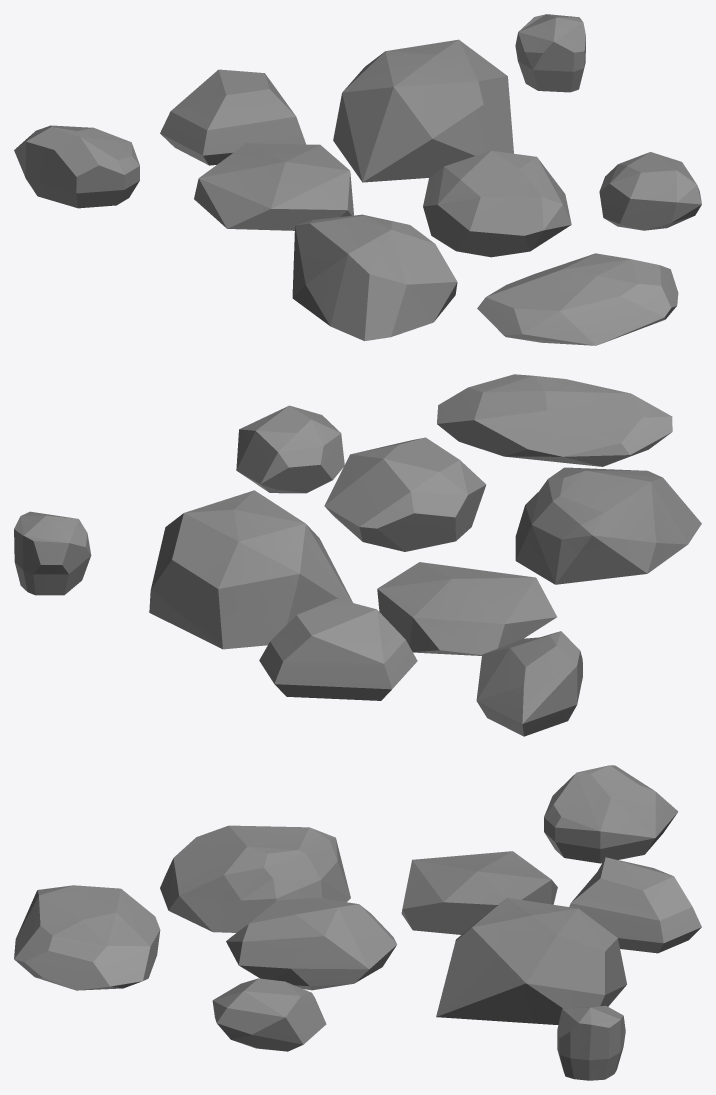
The model's file is Pebbles.obj.
3 views of the same model, one above another, from view 1: azimuth 30°, elevation 25°; view 2: azimuth 150°, elevation 25°; view 3: azimuth 270°, elevation 25° (orthographic). The views are drawn at different scales.
Parts seen in each view (by area): view 1: PP_Cemetery_Pebbles_09; view 2: PP_Cemetery_Pebbles_09; view 3: PP_Cemetery_Pebbles_09.
Boxes of the visible parts, x1=… form: PP_Cemetery_Pebbles_09: x1=14, y1=14, x2=701, y2=345; PP_Cemetery_Pebbles_09: x1=14, y1=374, x2=701, y2=736; PP_Cemetery_Pebbles_09: x1=14, y1=765, x2=701, y2=1080.
Bounding box in the file's own units: 0.4456 × 0.071 × 0.4974.
1 material, 1 textured.
